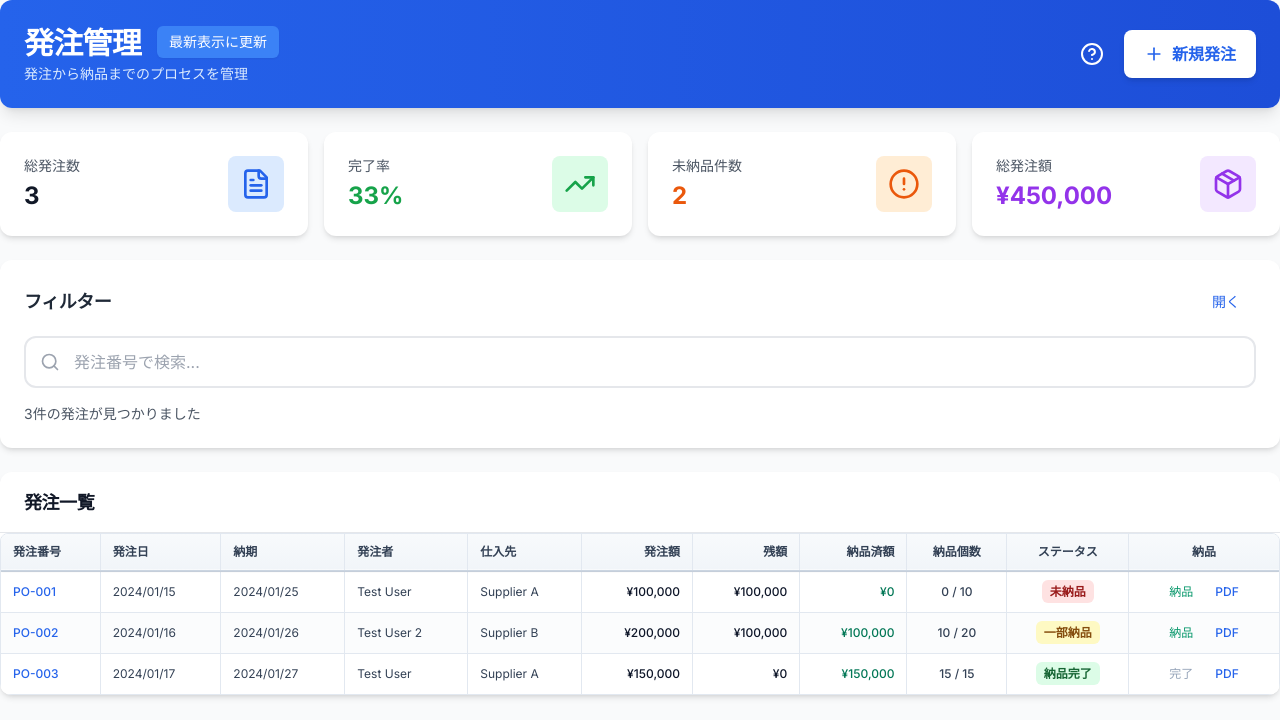
Test: Orders › Filters › should filter by search text
Expected: the link "PO-001" is shown, x1=13 y1=584 x2=56 y2=599
Expected: the link "PO-002" is shown, x1=13 y1=625 x2=58 y2=640
Type "PO-001" into the field with placeholder "発注番号で検索..." at (640, 362), box x1=24 y1=336 x2=1256 y2=388
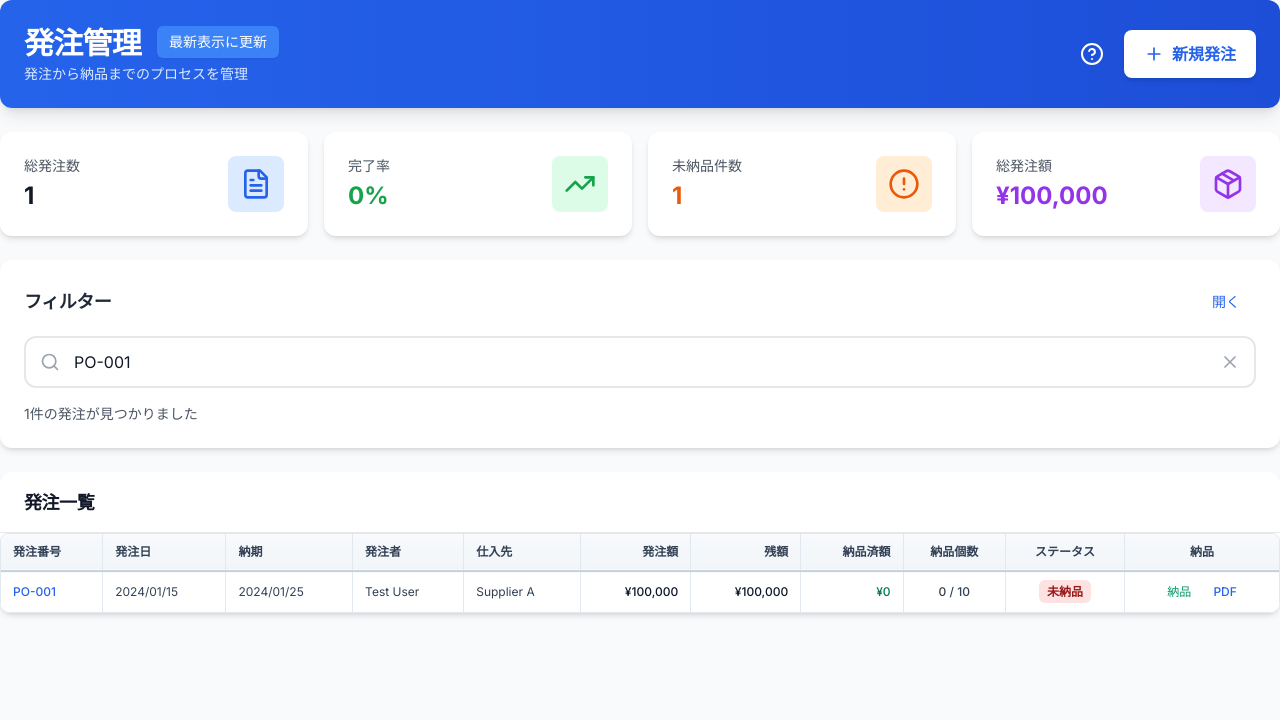
Expected: the link "PO-001" is shown, x1=13 y1=584 x2=56 y2=599
Expected: the link "PO-002" is gone
Expected: the link "PO-003" is gone
